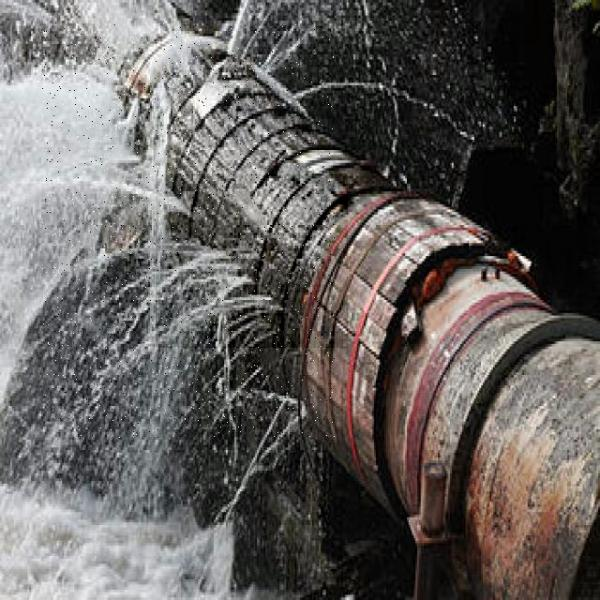water: (156, 174, 348, 348)
